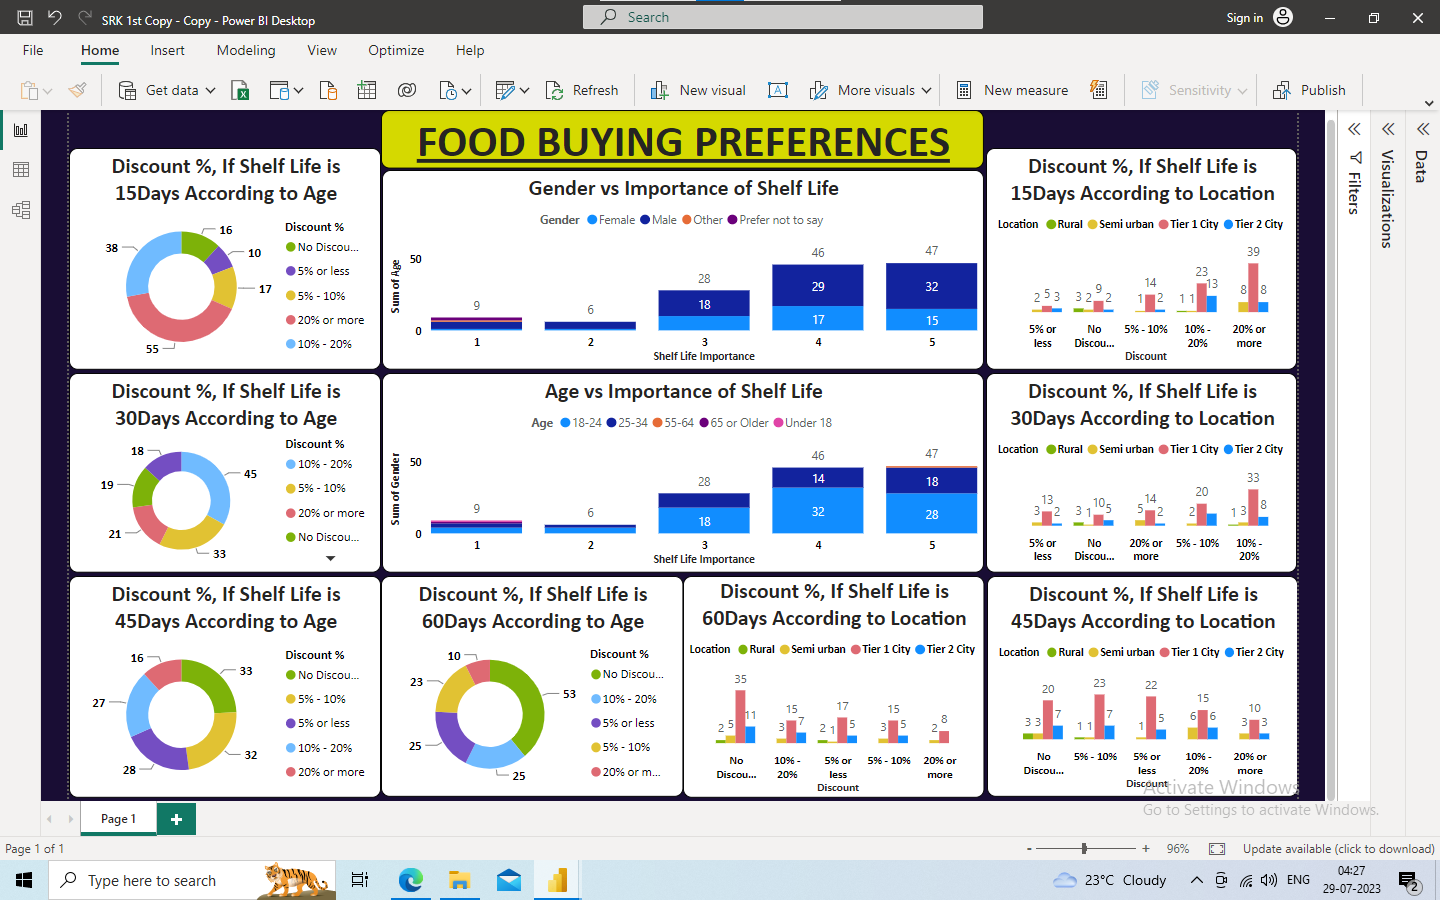

Layout of this report page (visuals, bound fields, positions):
{"tool":"powerbi","page":{"name":"Page 1","canvas":[1280,720],"ordinal":0},"visuals":[{"type":"clusteredColumnChart","title":"Discount %, If Shelf Life is 15Days According to Location","fields":{"Category":["Form Responses 1.Assuming you are interested in buying a particular food item, how much of a discount (in percentage) wo"],"Y":["Form Responses 1.Location"],"Series":["Form Responses 1.Location"]},"box":[955.5,40,324.2,230.9],"z":0},{"type":"clusteredColumnChart","title":"Discount %, If Shelf Life is 30Days According to Location","fields":{"Category":["Form Responses 1.Assuming you are interested in buying a particular food item, how much of a discount (in percentage) wo"],"Y":["Form Responses 1.Location"],"Series":["Form Responses 1.Location"]},"box":[955.5,274,324.2,208.2],"z":1000},{"type":"clusteredColumnChart","title":"Discount %, If Shelf Life is 45Days According to Location","fields":{"Y":["Form Responses 1.Location"],"Category":["Form Responses 1.Assuming you are interested in buying a particular food item, how much of a discount (in percentage) wo"],"Series":["Form Responses 1.Location"]},"box":[956.2,485.4,324,230.2],"z":2000},{"type":"clusteredColumnChart","title":"Discount %, If Shelf Life is 60Days According to Location","fields":{"Category":["Form Responses 1.Assuming you are interested in buying a particular food item, how much of a discount (in percentage) wo"],"Y":["Form Responses 1.Location"],"Series":["Form Responses 1.Location"]},"box":[639.6,485.4,313.5,231.2],"z":3000},{"type":"donutChart","title":"Discount %, If Shelf Life is 15Days According to Age","fields":{"Category":["Form Responses 1.Assuming you are interested in buying a particular food item, how much of a discount (in percentage) wo"],"Y":["Form Responses 1.Age"]},"box":[0,39.6,325,231.2],"z":4000},{"type":"donutChart","title":"Discount %, If Shelf Life is 45Days According to Age","fields":{"Y":["Form Responses 1.Age"],"Category":["Form Responses 1.Assuming you are interested in buying a particular food item, how much of a discount (in percentage) wo"]},"box":[0,485.7,325.3,230.9],"z":5000},{"type":"donutChart","title":"Discount %, If Shelf Life is 30Days According to Age","fields":{"Category":["Form Responses 1.Assuming you are interested in buying a particular food item, how much of a discount (in percentage) wo"],"Y":["Form Responses 1.Age"]},"box":[0,274,325.3,208.2],"z":6000},{"type":"donutChart","title":"Discount %, If Shelf Life is 60Days According to Age","fields":{"Y":["Form Responses 1.Age"],"Category":["Form Responses 1.Assuming you are interested in buying a particular food item, how much of a discount (in percentage) wo"]},"box":[325,485.4,314.6,230.2],"z":7000},{"type":"columnChart","title":"Age vs Importance of Shelf Life","fields":{"Category":["Form Responses 1.On a scale of 1 to 5, with 1 being not important and 5 being very important, how important is the shelf"],"Series":["Form Responses 1.Age"],"Y":["Form Responses 1.Age"]},"box":[326.4,274,626.7,208.2],"z":8000},{"type":"columnChart","title":"Gender vs Importance of Shelf Life","fields":{"Category":["Form Responses 1.On a scale of 1 to 5, with 1 being not important and 5 being very important, how important is the shelf"],"Y":["Form Responses 1.Gender"],"Series":["Form Responses 1.Gender"]},"box":[326,63,626.7,208.2],"z":9000},{"type":"textbox","title":"FOOD BUYING PREFERENCES","box":[325.3,0,627.9,61.4],"z":10000}]}

Visuals, with their boxes on the page's 1280x720 design canvas (x1, y1, x2, y2). These are canvas units, not pixel positions in the 1440x900 screenshot, which may show the page scaled, cropped or inside an application window:
"Discount %, If Shelf Life is 15Days According to Location" clusteredColumnChart: pyautogui.locateOnScreen(956, 40, 1280, 271)
"Discount %, If Shelf Life is 30Days According to Location" clusteredColumnChart: pyautogui.locateOnScreen(956, 274, 1280, 482)
"Discount %, If Shelf Life is 45Days According to Location" clusteredColumnChart: pyautogui.locateOnScreen(956, 485, 1280, 716)
"Discount %, If Shelf Life is 60Days According to Location" clusteredColumnChart: pyautogui.locateOnScreen(640, 485, 953, 717)
"Discount %, If Shelf Life is 15Days According to Age" donutChart: pyautogui.locateOnScreen(0, 40, 325, 271)
"Discount %, If Shelf Life is 45Days According to Age" donutChart: pyautogui.locateOnScreen(0, 486, 325, 717)
"Discount %, If Shelf Life is 30Days According to Age" donutChart: pyautogui.locateOnScreen(0, 274, 325, 482)
"Discount %, If Shelf Life is 60Days According to Age" donutChart: pyautogui.locateOnScreen(325, 485, 640, 716)
"Age vs Importance of Shelf Life" columnChart: pyautogui.locateOnScreen(326, 274, 953, 482)
"Gender vs Importance of Shelf Life" columnChart: pyautogui.locateOnScreen(326, 63, 953, 271)
"FOOD BUYING PREFERENCES" textbox: pyautogui.locateOnScreen(325, 0, 953, 61)
